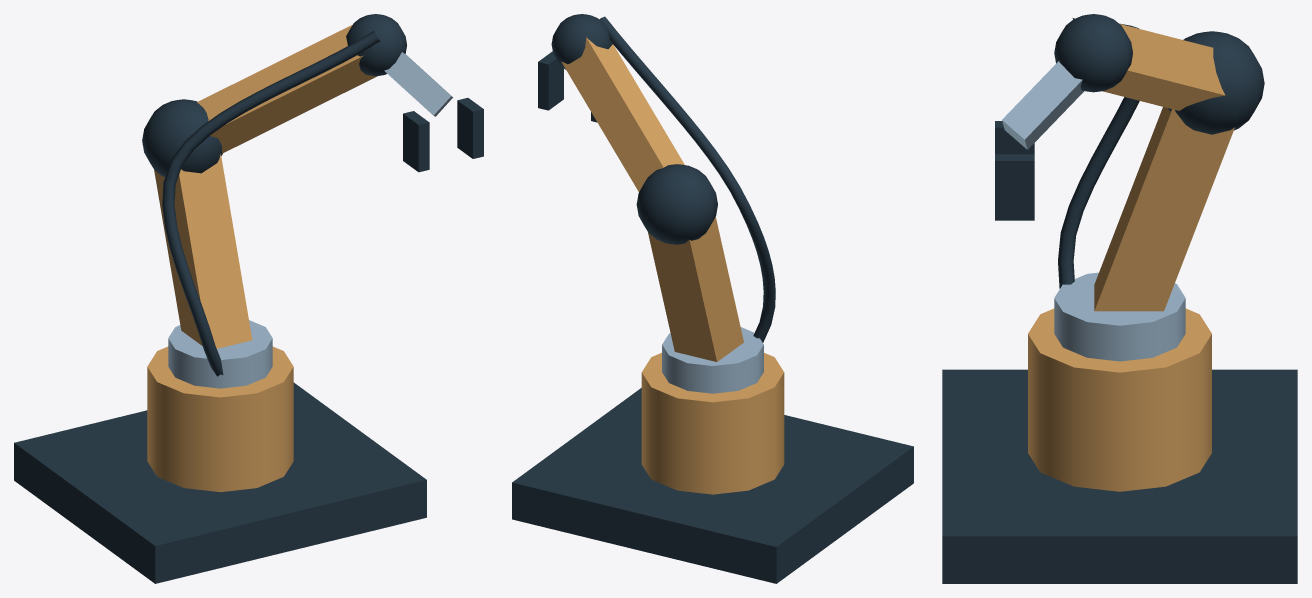
Rendered from robot.glb.
The picture shows the model from 3 angles, left to right: view 1: azimuth 30°, elevation 25°; view 2: azimuth 150°, elevation 25°; view 3: azimuth 270°, elevation 25°; orthographic projection. The views are drawn at different scales.
Parts seen in each view (by area): view 1: preset-robot (×3); view 2: preset-robot (×3); view 3: preset-robot (×3).
Part boxes in pixels (box(x1,y1,x2,y2)): preset-robot (×3): box(14, 14, 483, 583); preset-robot (×3): box(512, 14, 913, 583); preset-robot (×3): box(942, 14, 1297, 583).
Size of the model in its own units: 3.86 by 4.8 by 2.7.
